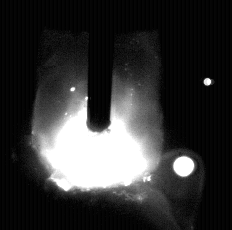arame: (88, 0, 112, 133)
poca: (31, 0, 163, 230)
